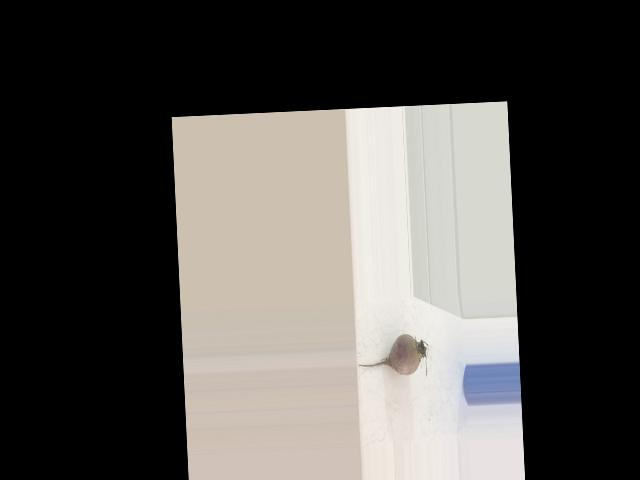beet: (356, 333, 430, 380)
